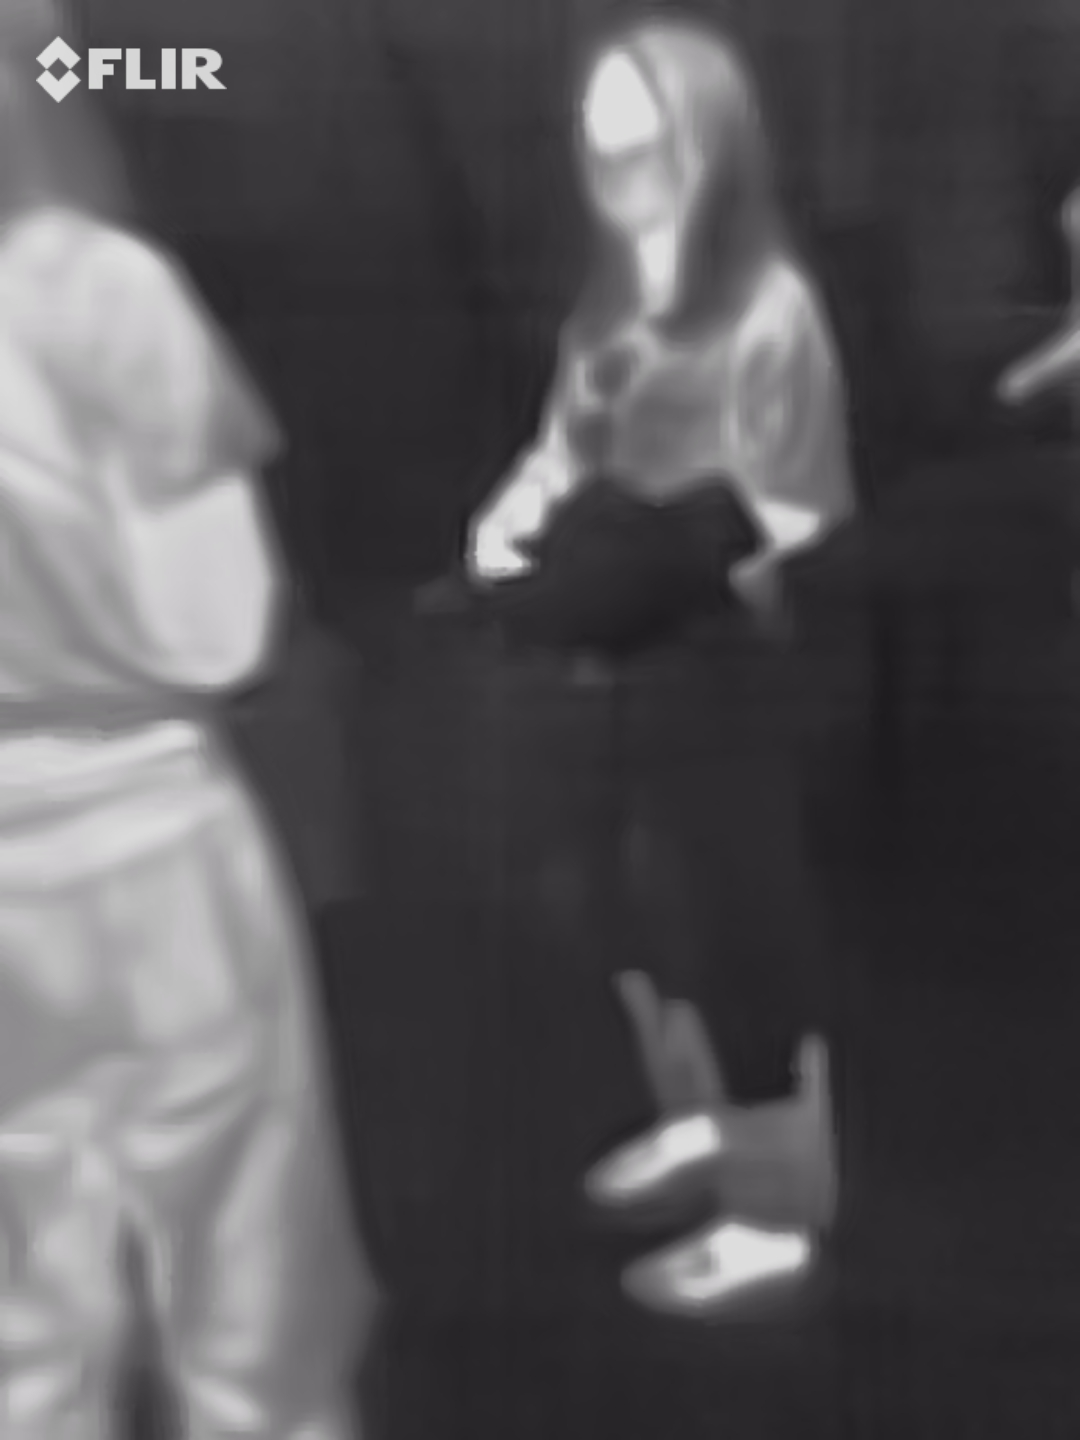head: (566, 24, 760, 241)
